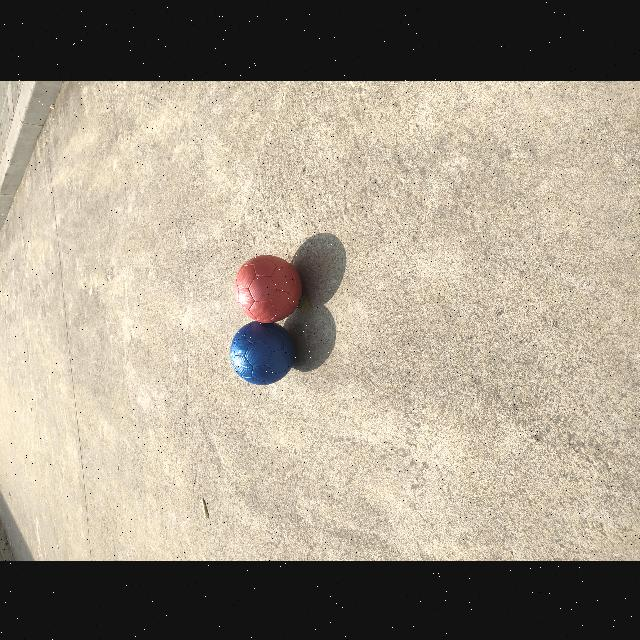B: (230, 321, 295, 385)
R: (234, 254, 302, 322)
